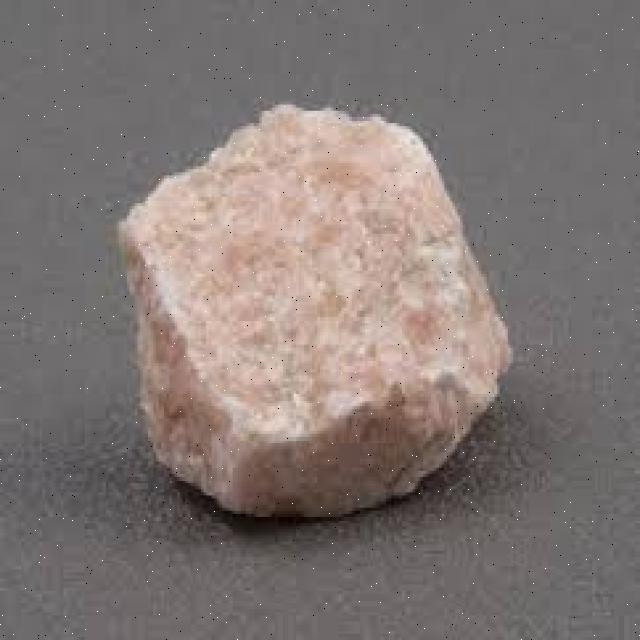Metamorphic: (113, 102, 516, 529)
